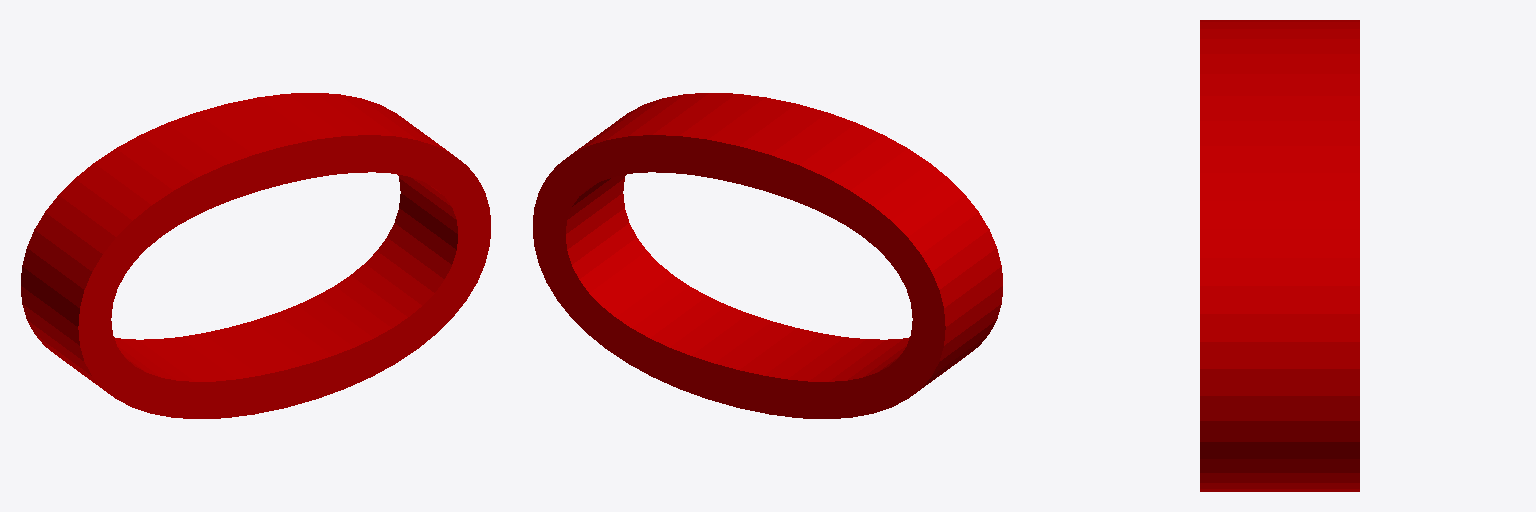
The robot description file, URDF, robot "ring":
<?xml version="0.0" ?>
<robot name="ring">
    <material name="red">
        <color rgba="0.799103 0.003676 0.010960 1"/>
    </material>

    <link name="baseLink">
        <!-- from lego/lego.urdf -->
        <contact>
            <lateral_friction value="1.0"/>
            <rolling_friction value="0.0"/>
            <contact_cfm value="0.0"/>
            <contact_erp value="1.0"/>
        </contact>
        <inertial>
            <origin rpy="0 0 0" xyz="0 0 0"/>
            <mass value="0.5"/>
            <inertia ixx="1" ixy="0" ixz="0" iyy="1" iyz="0" izz="1"/>
        </inertial>
        <visual>
            <origin rpy="0 0 0" xyz="0 0 0"/>
            <geometry>
                <!--        radius: 10mm, depth: 14.5mm-->
                <mesh filename="meshes/0.obj" scale="1 1 1"/>
                <!--        <box size="0.002 0.002 0.002"/>-->
            </geometry>
            <material name="red"/>
        </visual>
        <collision>
            <origin rpy="0 0 0" xyz="0 0 0"/>
            <geometry>
                <mesh filename="meshes/0_vhacd.obj" scale="1 1 1"/>
                       <!-- <box size="0.002 0.002 0.002"/> -->
            </geometry>
        </collision>
    </link>

</robot>

--- Facts derived from the render (not from the file) ---
Views: 3 orthographic renders of the robot side by side, from view 1: azimuth 30°, elevation 25°; view 2: azimuth 150°, elevation 25°; view 3: azimuth 270°, elevation 25°.
Robot: ring — 1 links, 0 joints (none); root link baseLink; default pose: every joint at zero.
Links seen in each view (by area): view 1: baseLink; view 2: baseLink; view 3: baseLink.
Boxes of the visible links, <box> form: baseLink: <box>21,93,490,418</box>; baseLink: <box>533,93,1002,418</box>; baseLink: <box>1200,20,1359,491</box>.
Size in the robot's own frame: 2.64 by 0.64 by 1.6 metres.
Meshes: 1 distinct files referenced, 1 mesh visuals loaded (1 OBJ).